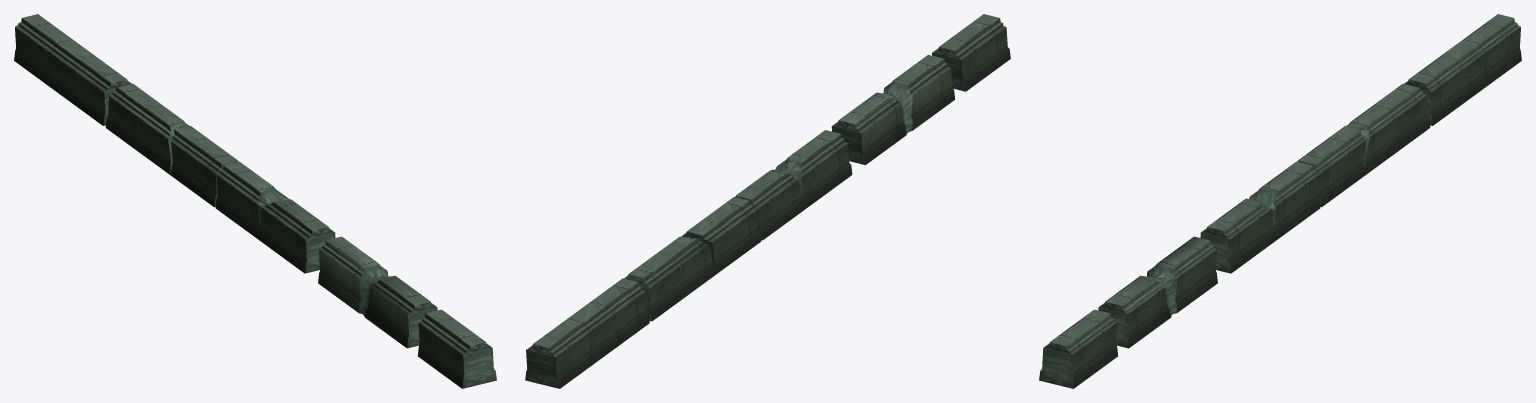
File: DLD_aiqiang01.FBX
3 renders of one model, left to right at view 1: azimuth 30°, elevation 25°; view 2: azimuth 150°, elevation 25°; view 3: azimuth 330°, elevation 25°, orthographic.
Parts seen in each view (by area): view 1: DLD_aiqiang01_003, DLD_aiqiang01_004, DLD_aiqiang01_001, DLD_aiqiang01_006, DLD_aiqiang01_002, DLD_aiqiang01_005; view 2: DLD_aiqiang01_001, DLD_aiqiang01_004, DLD_aiqiang01_003, DLD_aiqiang01_002, DLD_aiqiang01_006, DLD_aiqiang01_005; view 3: DLD_aiqiang01_003, DLD_aiqiang01_004, DLD_aiqiang01_001, DLD_aiqiang01_006, DLD_aiqiang01_002, DLD_aiqiang01_005.
Part boxes in pixels (left/top/right/bottom): DLD_aiqiang01_003: left=215, top=161, right=335, bottom=273; DLD_aiqiang01_004: left=318, top=236, right=437, bottom=348; DLD_aiqiang01_001: left=14, top=14, right=131, bottom=125; DLD_aiqiang01_006: left=417, top=309, right=496, bottom=388; DLD_aiqiang01_002: left=105, top=83, right=189, bottom=175; DLD_aiqiang01_005: left=171, top=126, right=238, bottom=207; DLD_aiqiang01_001: left=525, top=278, right=649, bottom=388; DLD_aiqiang01_004: left=831, top=54, right=955, bottom=164; DLD_aiqiang01_003: left=735, top=130, right=852, bottom=240; DLD_aiqiang01_002: left=624, top=236, right=717, bottom=321; DLD_aiqiang01_006: left=932, top=14, right=1010, bottom=91; DLD_aiqiang01_005: left=682, top=197, right=761, bottom=272; DLD_aiqiang01_003: left=1200, top=161, right=1320, bottom=273; DLD_aiqiang01_004: left=1098, top=236, right=1217, bottom=348; DLD_aiqiang01_001: left=1404, top=14, right=1521, bottom=125; DLD_aiqiang01_006: left=1039, top=309, right=1117, bottom=388; DLD_aiqiang01_002: left=1347, top=83, right=1430, bottom=175; DLD_aiqiang01_005: left=1297, top=125, right=1365, bottom=207.
Bounding box in the file's own units: 182 × 207 × 4105.
1 material, 1 textured.
